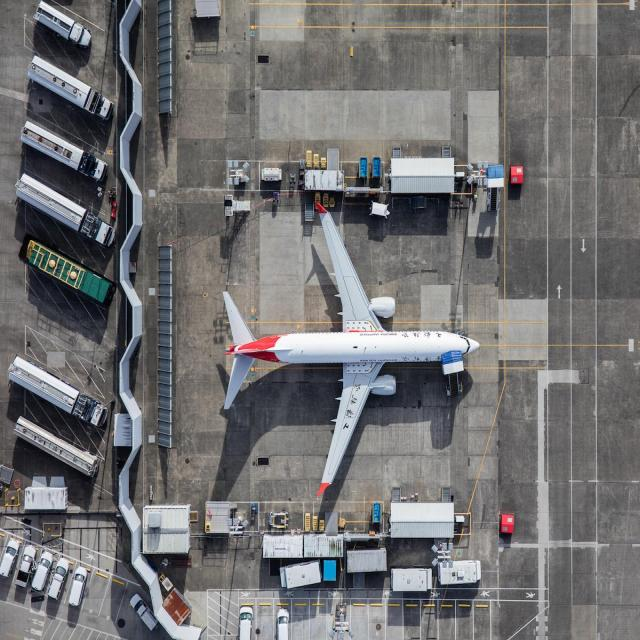plain: (211, 201, 474, 497)
